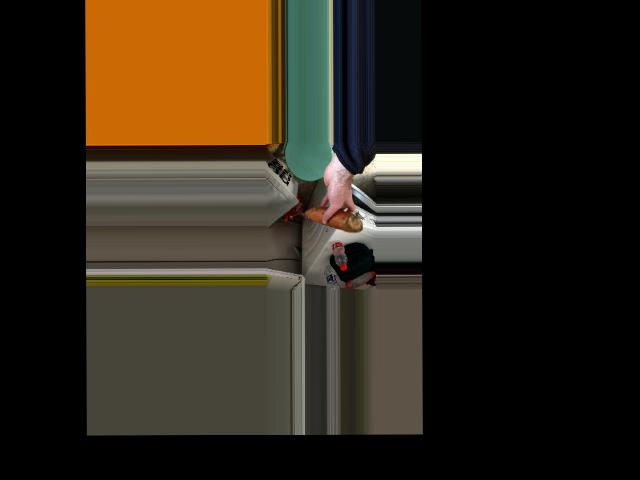sweet_potato: (299, 210, 362, 228)
